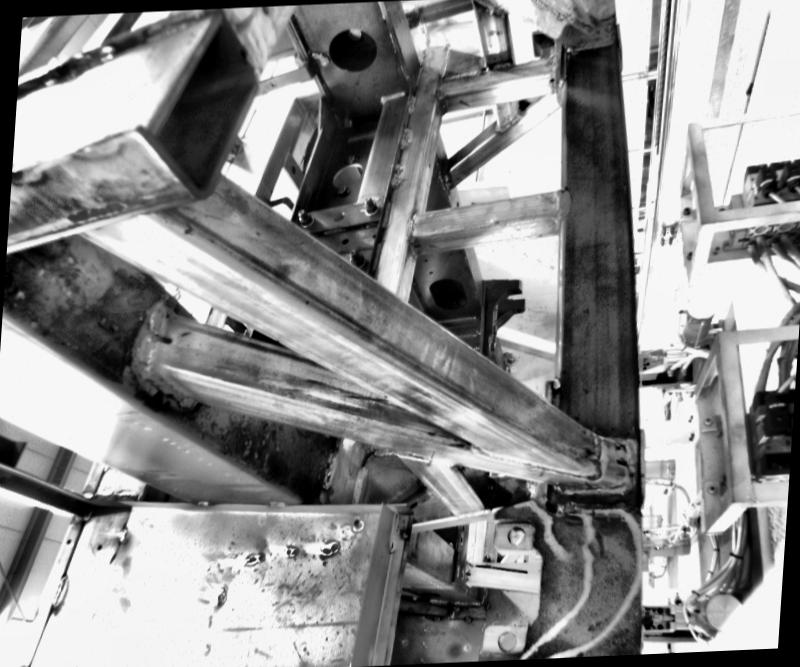bolt: (292, 206, 312, 228), (362, 195, 380, 218), (345, 246, 364, 266)
bracket: (474, 274, 528, 356)
hole: (326, 26, 378, 74), (425, 275, 469, 311), (326, 162, 362, 196), (152, 329, 172, 349), (612, 454, 628, 470), (331, 208, 345, 222), (546, 76, 554, 84), (340, 237, 348, 244), (96, 542, 101, 550), (64, 540, 72, 544), (371, 232, 375, 238), (422, 258, 428, 262), (427, 270, 432, 274)
welding: (548, 482, 642, 508), (141, 305, 171, 367), (612, 439, 636, 489), (50, 572, 66, 612), (551, 187, 569, 219), (264, 498, 288, 512), (116, 526, 130, 544), (406, 209, 414, 240), (193, 498, 211, 508)
